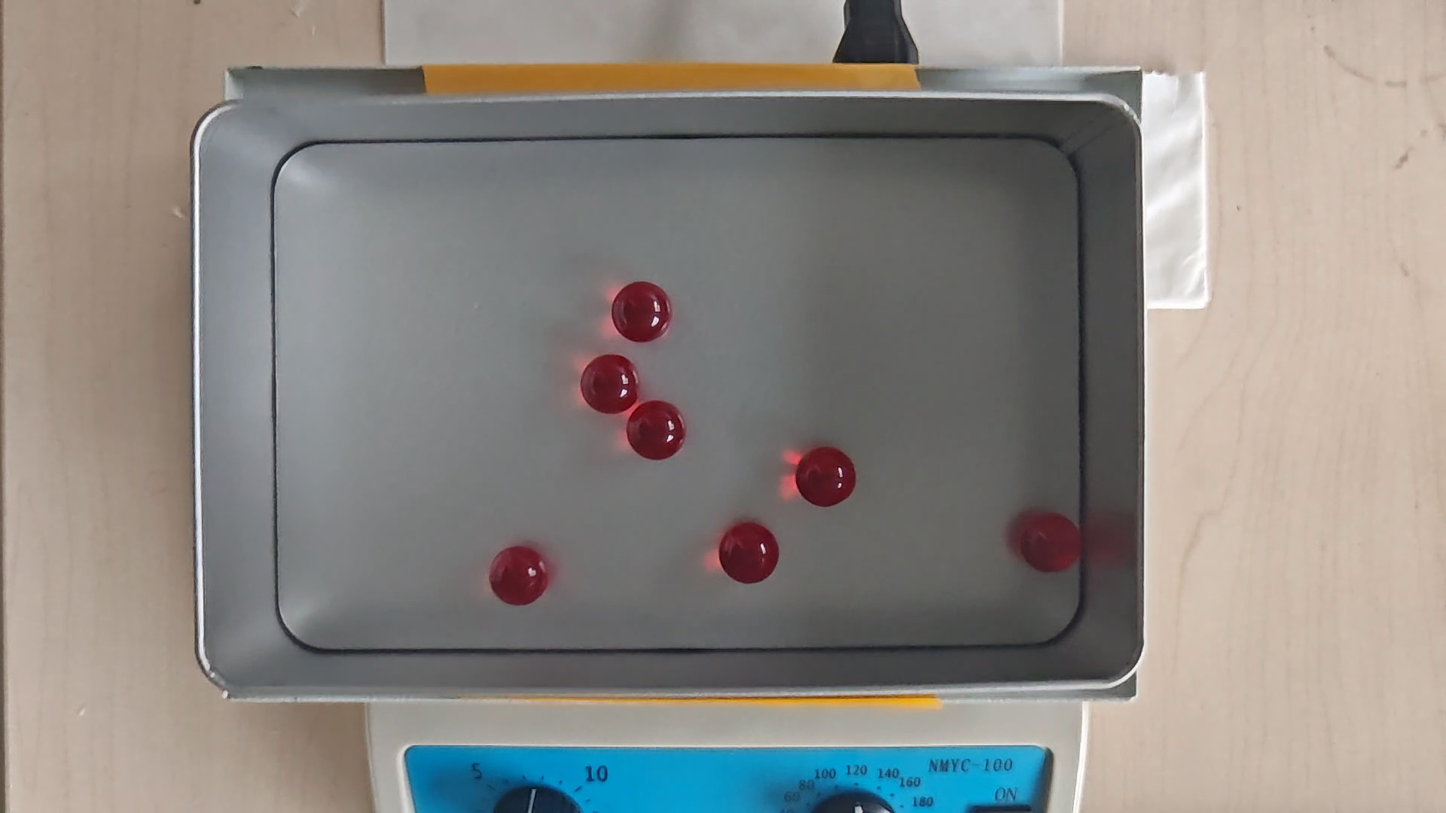ball: (720, 523, 779, 585), (581, 355, 640, 416), (490, 544, 547, 607), (627, 400, 685, 461), (1023, 513, 1080, 575), (797, 447, 853, 507), (615, 282, 671, 342)
container: (269, 136, 1083, 655)
